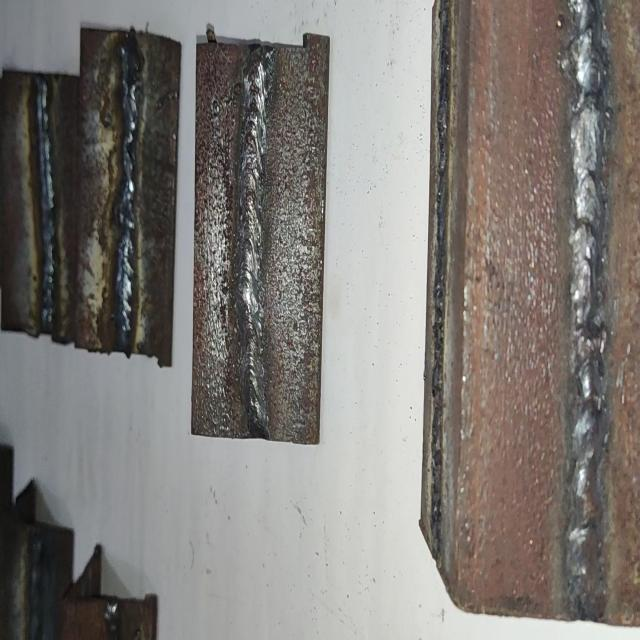Good Weld: (570, 3, 605, 607), (239, 46, 273, 426), (112, 38, 142, 342), (34, 76, 59, 333)
